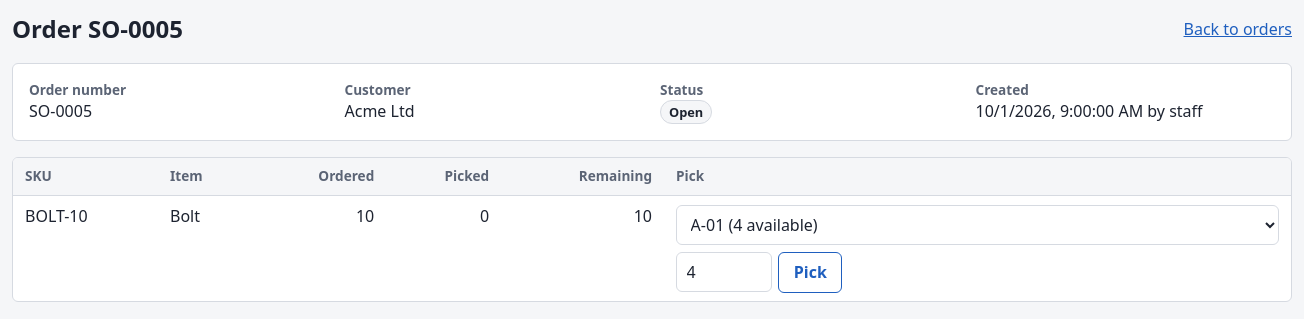
Scenario: OrderDetailPage › shows the server message when a pick is rejected
The image size is (1304, 319).
What coordinates should you click on to do the following:
click the button with aria-label "Pick BOLT-10"
I would click on:
 (810, 272)
Its box is [778,252,842,293].
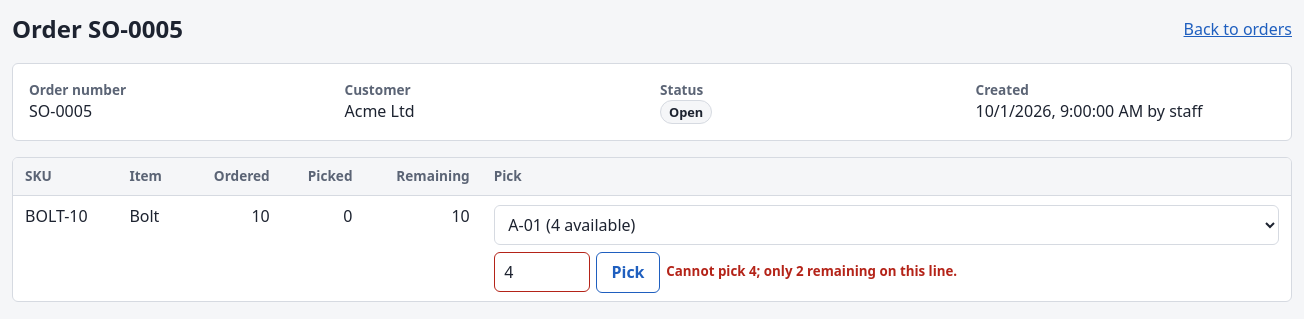
expect the field named "Pick quantity for BOLT-10" holds "4": met, box [494,252,590,292]
expect the message reads "Cannot pick 4; only 2 remaining on this line.": met, box [666,262,957,280]
